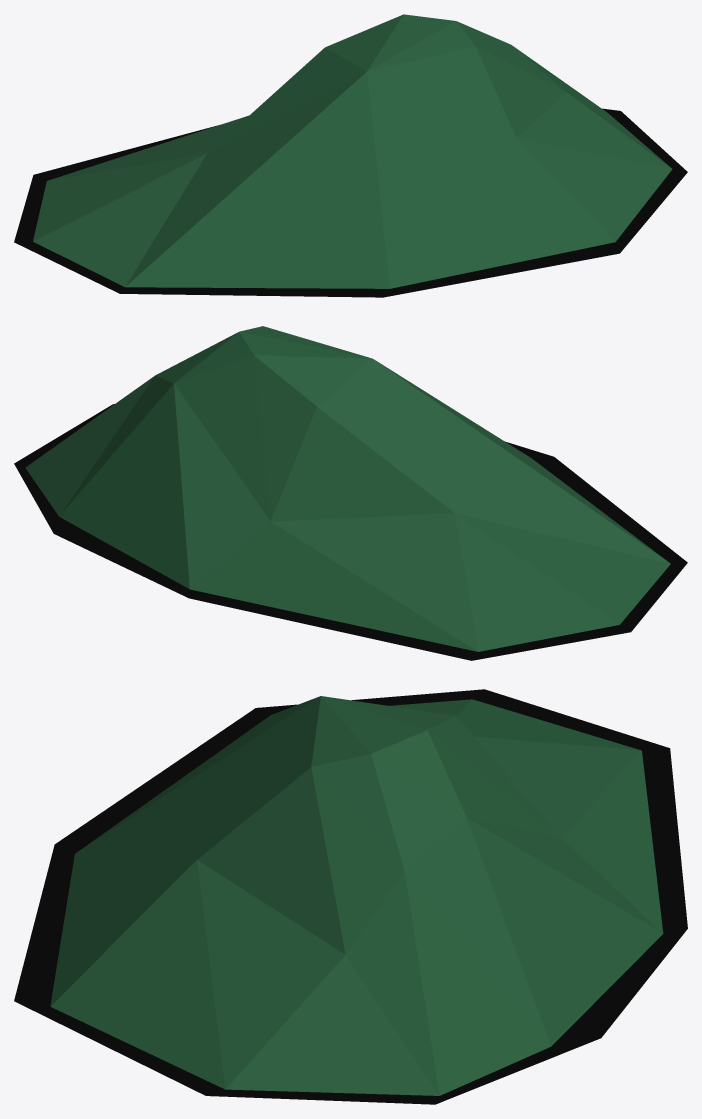
File: Wzgorze5.fbx
3 views of the same model, one above another, from view 1: azimuth 30°, elevation 25°; view 2: azimuth 150°, elevation 25°; view 3: azimuth 270°, elevation 25° (orthographic). The views are drawn at different scales.
Parts seen in each view (by area): view 1: Wzgorze5; view 2: Wzgorze5; view 3: Wzgorze5.
Boxes of the visible parts, x1,y1,x2,y2 form: Wzgorze5: (14,14,687,297); Wzgorze5: (14,326,687,660); Wzgorze5: (14,689,687,1104).
Bounding box in the file's own units: 127802 × 31516 × 87630.
